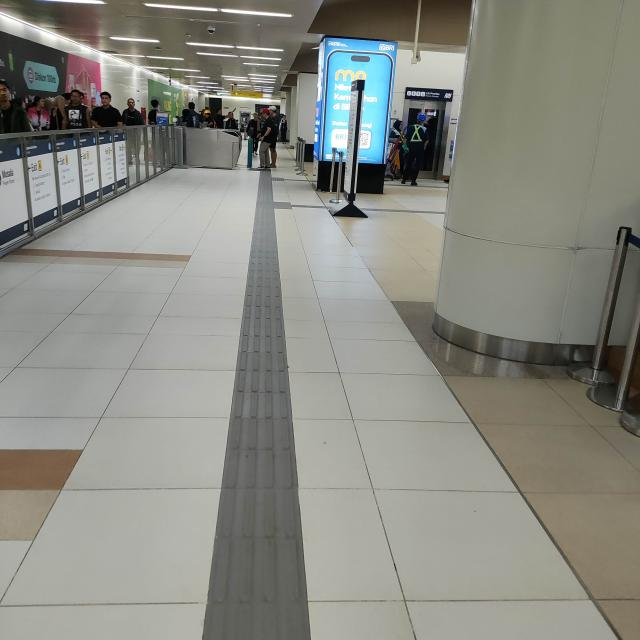lurus: (225, 199, 301, 640)
